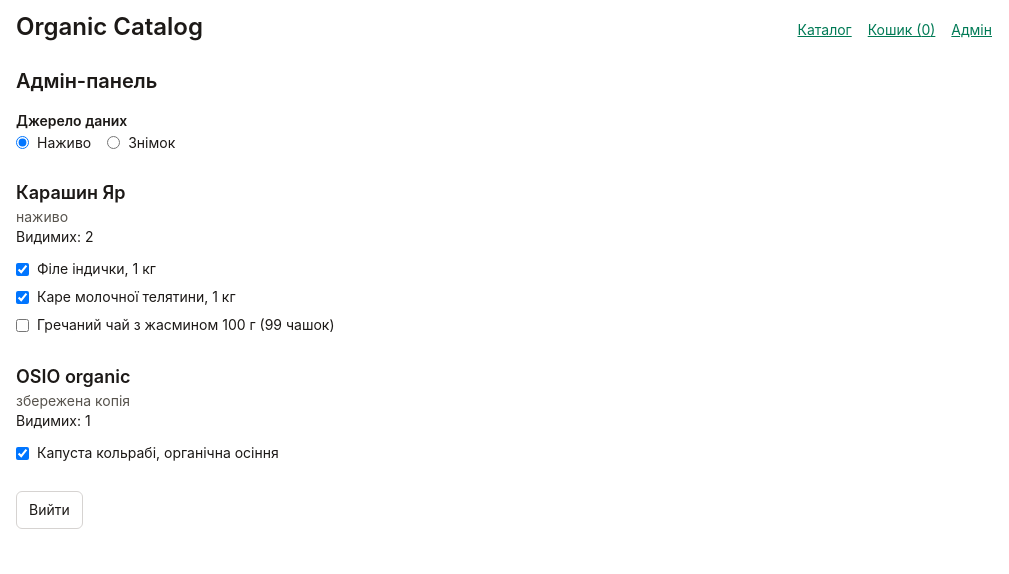
Test: Data source switch › Radio switches the data source
The width and height of the screenshot is (1009, 574).
Step 1. Click the radio button labelled "Знімок" → x=114, y=142, box [107, 136, 120, 149]
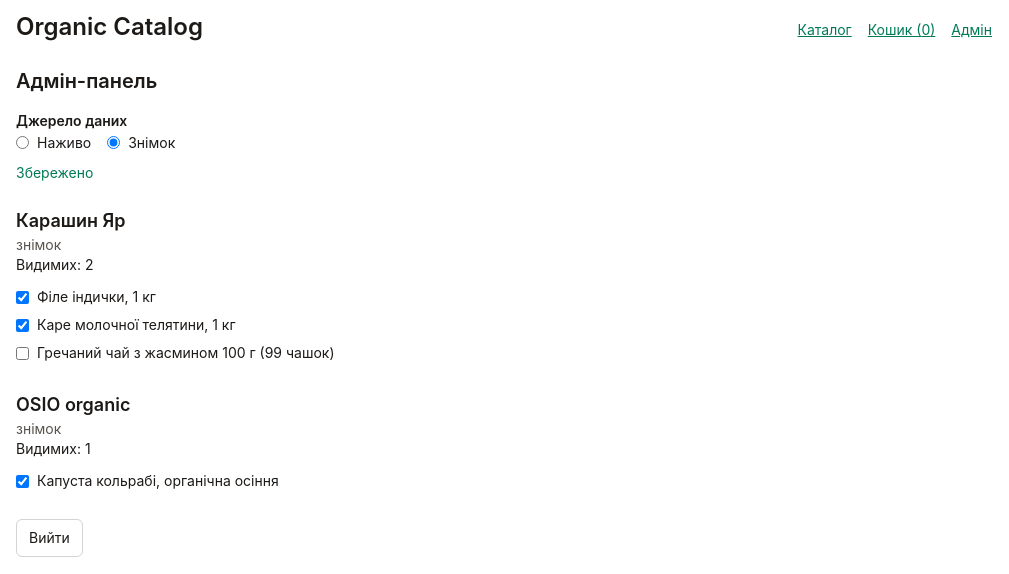
Result: the radio button labelled "Знімок" is checked at [107, 136, 120, 149]
Result: the message reads "Збережено" at [16, 164, 93, 181]
Result: the radio button labelled "Наживо" is not checked at [16, 136, 29, 149]
